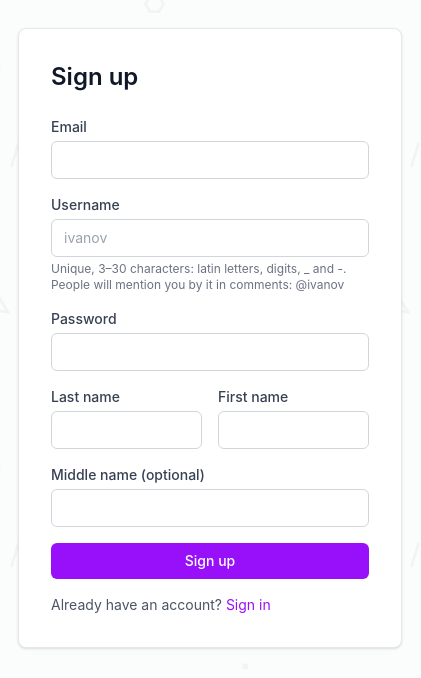
Test: RegisterPage › никнейм обязателен
In the field labelled "Email": point(210, 160) x1=51 y1=141 x2=369 y2=179, type "user@example.com"
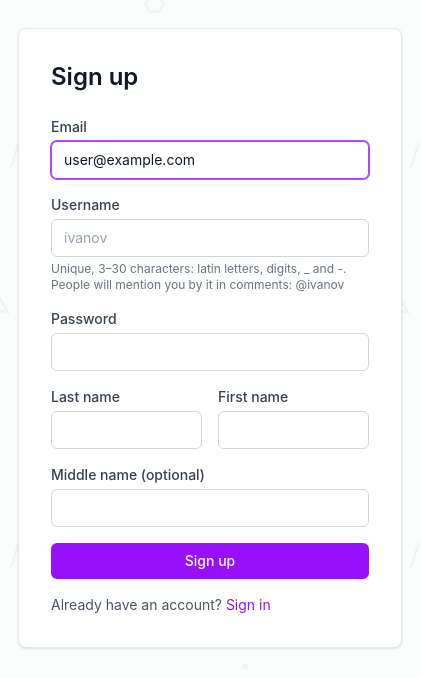
In the password field labelled "Password": point(210, 352) x1=51 y1=333 x2=369 y2=371, type "long-enough-password"
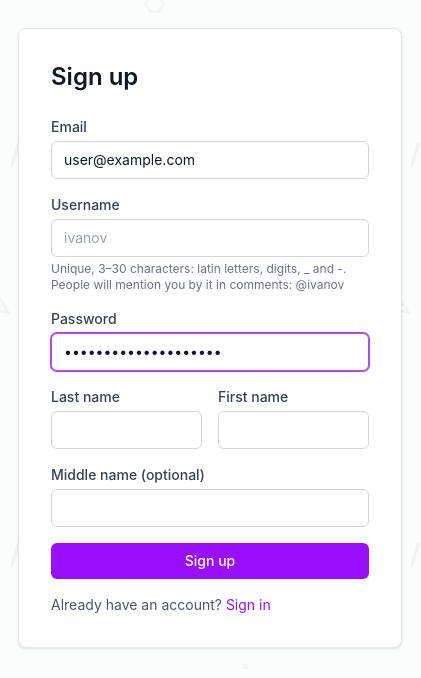
In the field labelled "Last name": point(126, 430) x1=51 y1=411 x2=202 y2=449, type "Иванов"
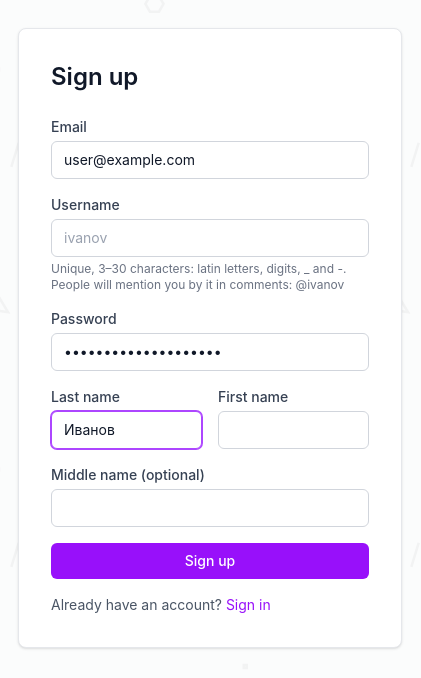
In the field labelled "First name": point(294, 430) x1=218 y1=411 x2=369 y2=449, type "Иван"
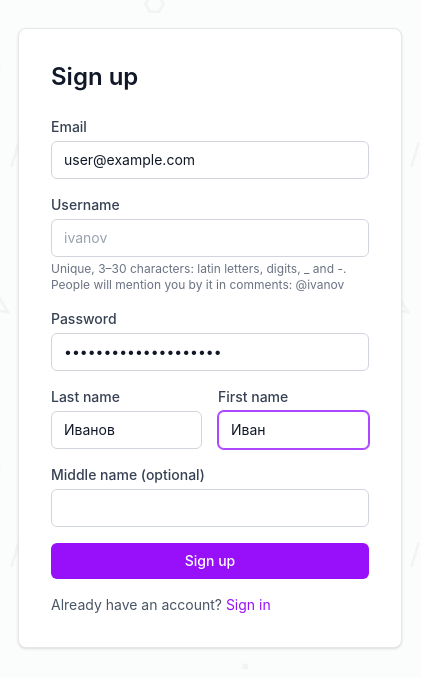
Click the button "Sign up": point(210, 561) x1=51 y1=543 x2=369 y2=579
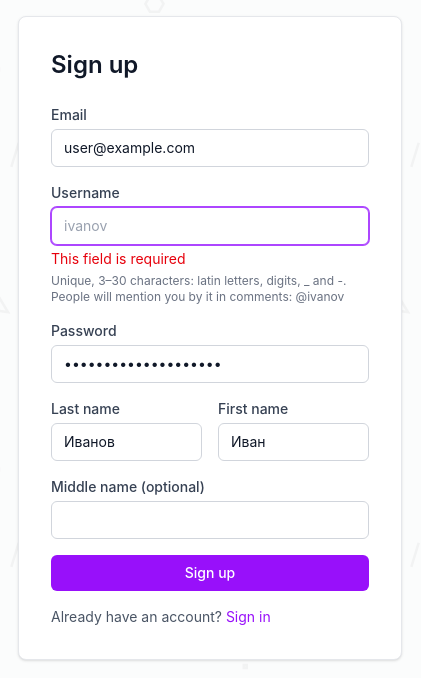
Expected: the text "This field is required" is shown, x1=51 y1=250 x2=186 y2=267
